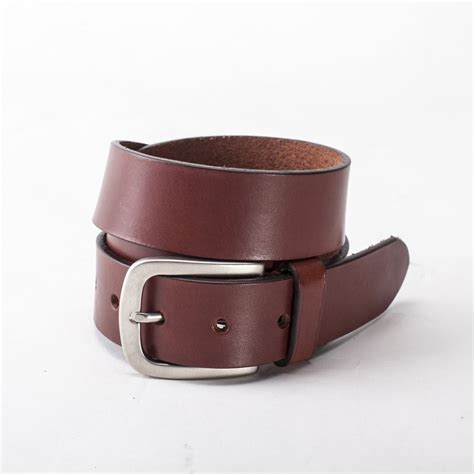cuero: (90, 134, 410, 378)
